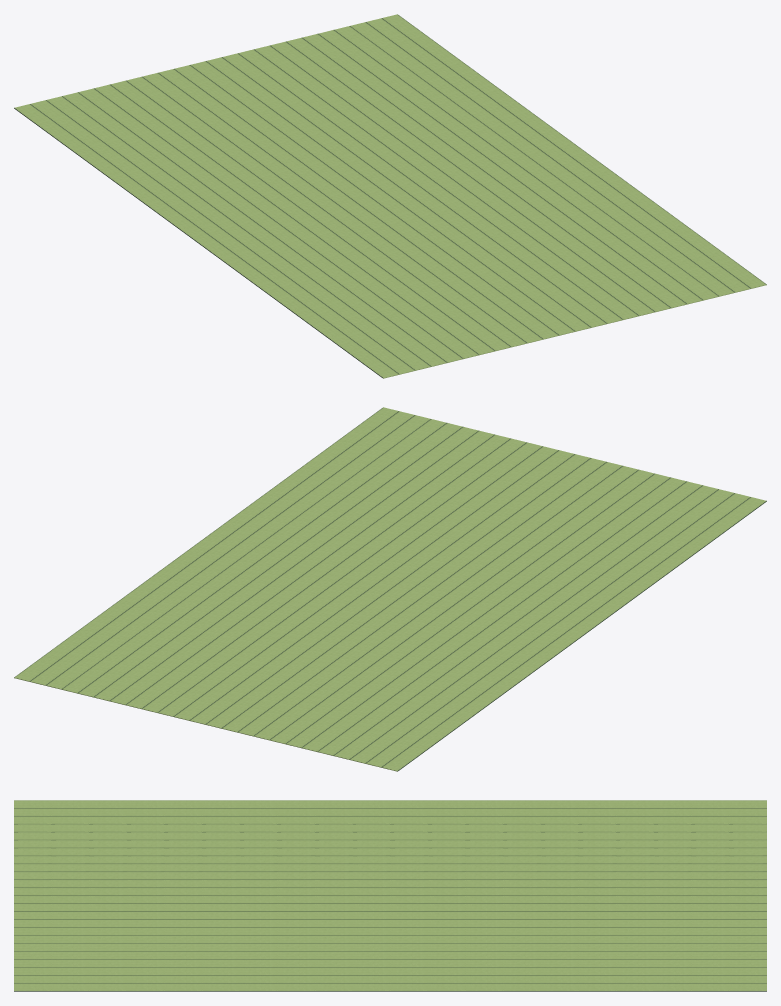
Rendered from tatami_z (1).FBX.
3 renders of one model, top to bottom at view 1: azimuth 30°, elevation 25°; view 2: azimuth 150°, elevation 25°; view 3: azimuth 270°, elevation 25°, orthographic.
Visible parts, largest first — view 1: Box001; view 2: Box001; view 3: Box001.
Part boxes in pixels (bbox=[...]): Box001: bbox=[14, 14, 766, 378]; Box001: bbox=[14, 407, 766, 771]; Box001: bbox=[14, 800, 766, 991].
Bounding box in the file's own units: 2184 × 3 × 3640.
1 material, 1 textured.
